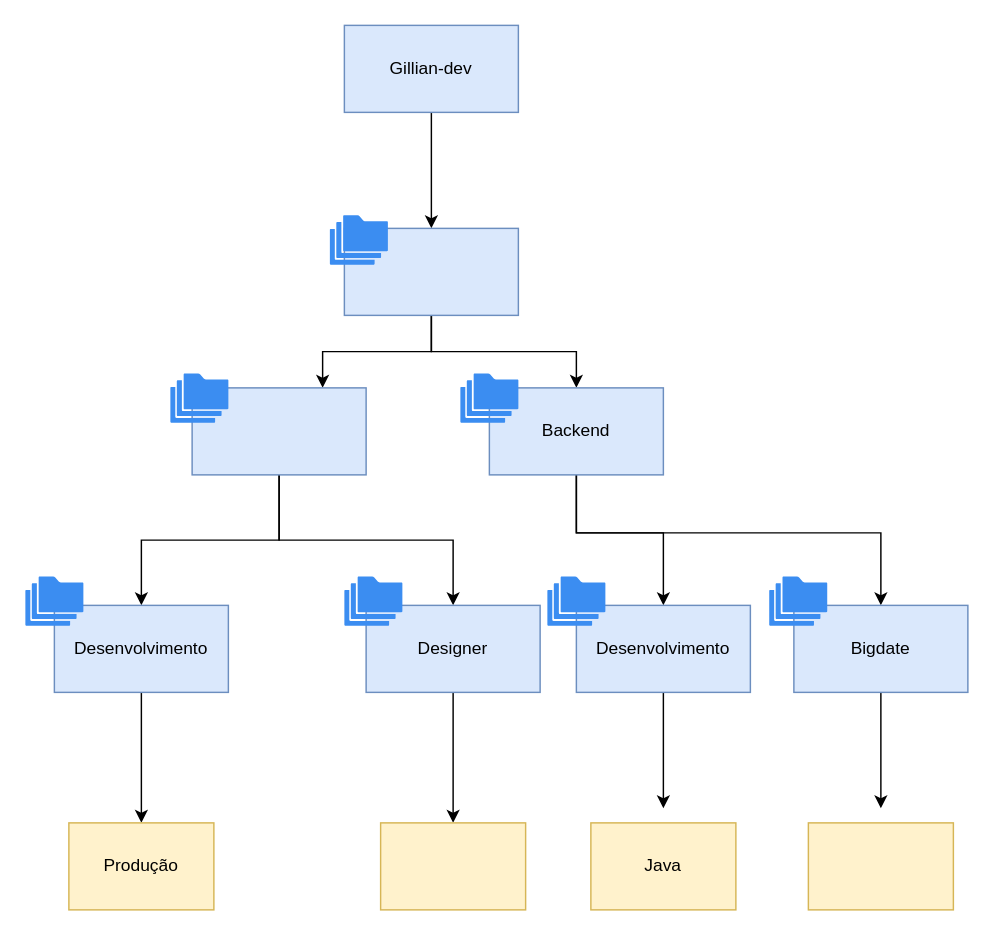
Image size: 993x935. Some labels were removed from this diagram. Here are the shapes that lost their labels. From the top down, the box of each, then its label:
(343, 227, 518, 315): Comercial
(191, 386, 366, 475): Front-end
(379, 821, 526, 910): Html-Css-Js
(807, 821, 953, 910): Mysql
